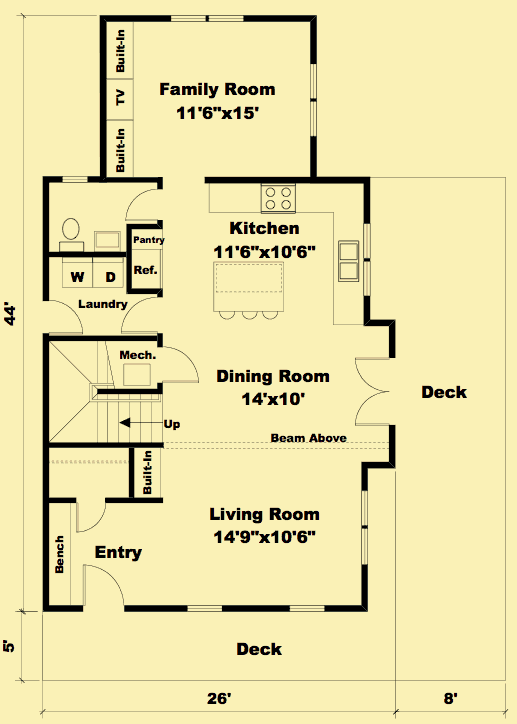door: (349, 354, 399, 432), (79, 562, 130, 615), (117, 294, 167, 339), (37, 295, 86, 339), (160, 339, 202, 389), (123, 183, 165, 226), (69, 493, 112, 535)
large sink: (57, 216, 87, 253)
stairs: (45, 336, 164, 446)
windows: (355, 485, 373, 574), (163, 12, 248, 29), (305, 61, 323, 139), (360, 221, 377, 299), (279, 601, 329, 619), (183, 599, 225, 619), (56, 172, 91, 190)
